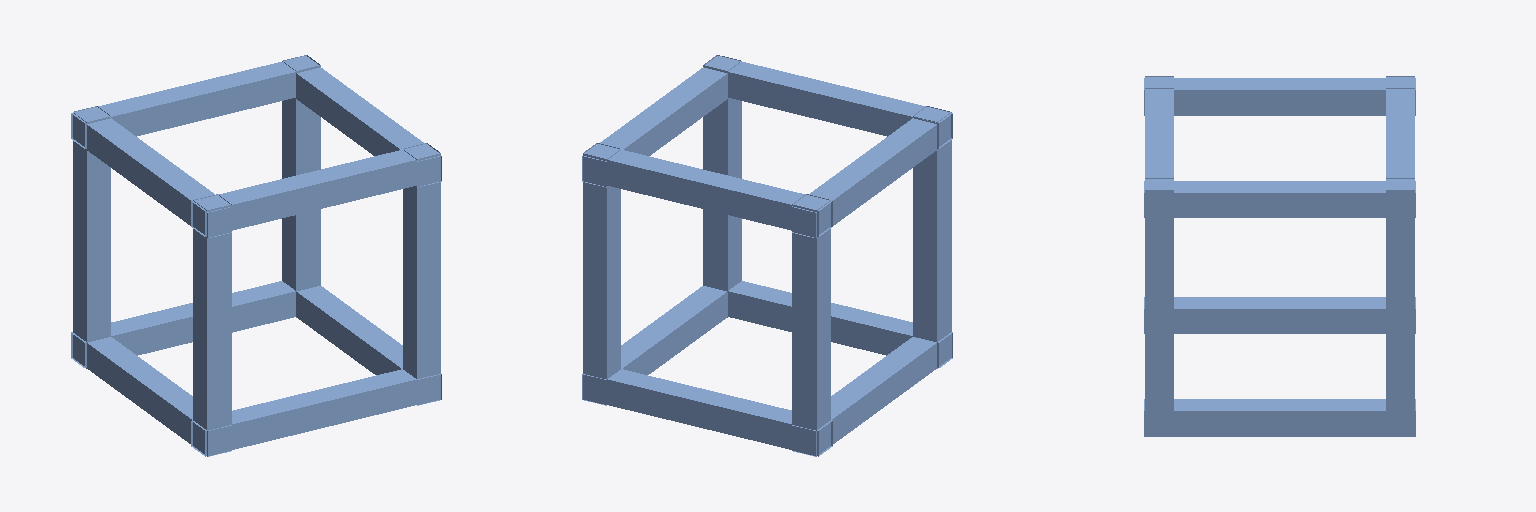
Rendered from selectionObj.obj.
The picture shows the model from 3 angles: view 1: azimuth 30°, elevation 25°; view 2: azimuth 150°, elevation 25°; view 3: azimuth 270°, elevation 25°; orthographic projection.
Visible parts, largest first — view 1: Box006; view 2: Box006; view 3: Box006.
Boxes of the visible parts, <box> form: Box006: <box>71,55,441,456</box>; Box006: <box>582,55,952,456</box>; Box006: <box>1144,76,1415,436</box>.
Size of the model in its own units: 1.32 by 1.32 by 1.32.